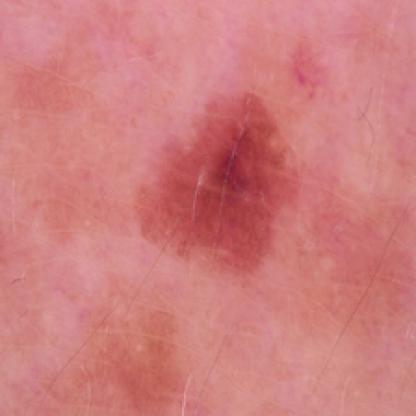benign: (128, 86, 320, 282)
